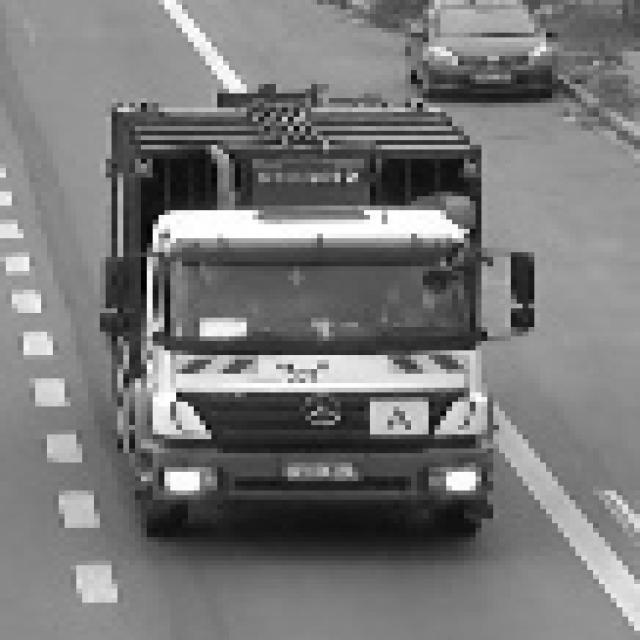truck: (94, 102, 528, 538)
